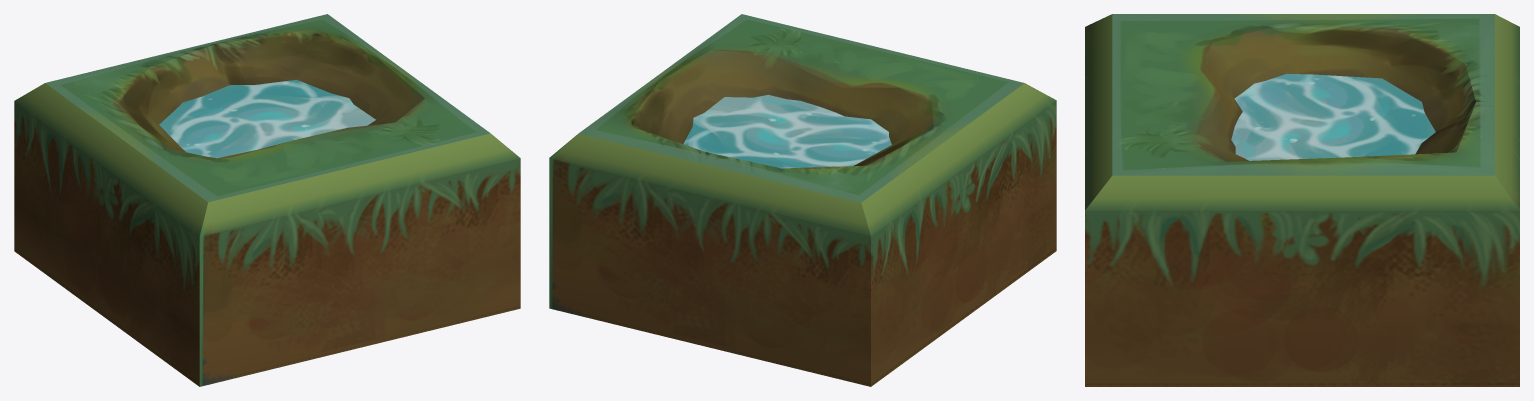
Rendered from tile_Pond2.FBX.
3 renders of one model, left to right at view 1: azimuth 30°, elevation 25°; view 2: azimuth 150°, elevation 25°; view 3: azimuth 270°, elevation 25°, orthographic. The views are drawn at different scales.
Visible parts, largest first — view 1: Tile_OasisShape001; view 2: Tile_OasisShape001; view 3: Tile_OasisShape001.
Part boxes in pixels (left/top/right/bottom): Tile_OasisShape001: left=14, top=14, right=520, bottom=386; Tile_OasisShape001: left=549, top=14, right=1056, bottom=386; Tile_OasisShape001: left=1085, top=14, right=1519, bottom=386.
Size of the model in its own units: 25.2 by 13.43 by 25.2.
Materials: 1 (1 with a texture image).
